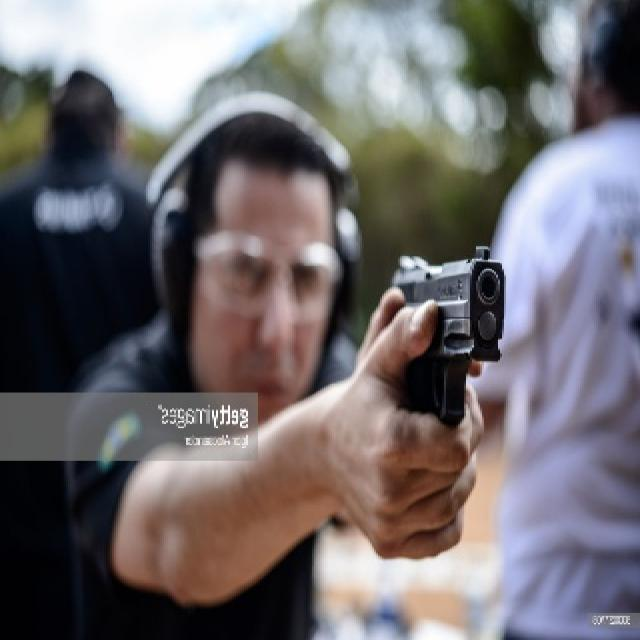handgun: (393, 246, 513, 428)
